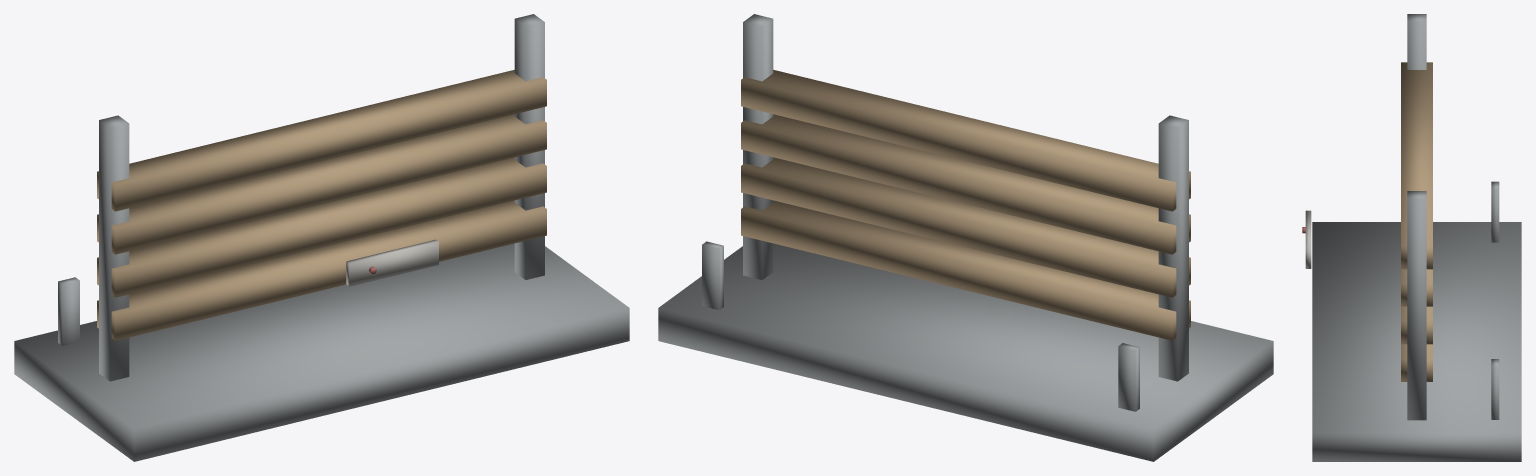
File: lumber_cart__reinforced.glb
The picture shows the model from 3 angles, left to right: view 1: azimuth 30°, elevation 25°; view 2: azimuth 150°, elevation 25°; view 3: azimuth 270°, elevation 25°; orthographic projection. The views are drawn at different scales.
Parts seen in each view (by area): view 1: world; view 2: world; view 3: world.
Part boxes in pixels (x1,y1,x2,y2): world: (14, 14, 629, 461); world: (658, 14, 1273, 461); world: (1302, 14, 1521, 461).
Size of the model in its own units: 1.6 by 0.8823 by 0.7014.
